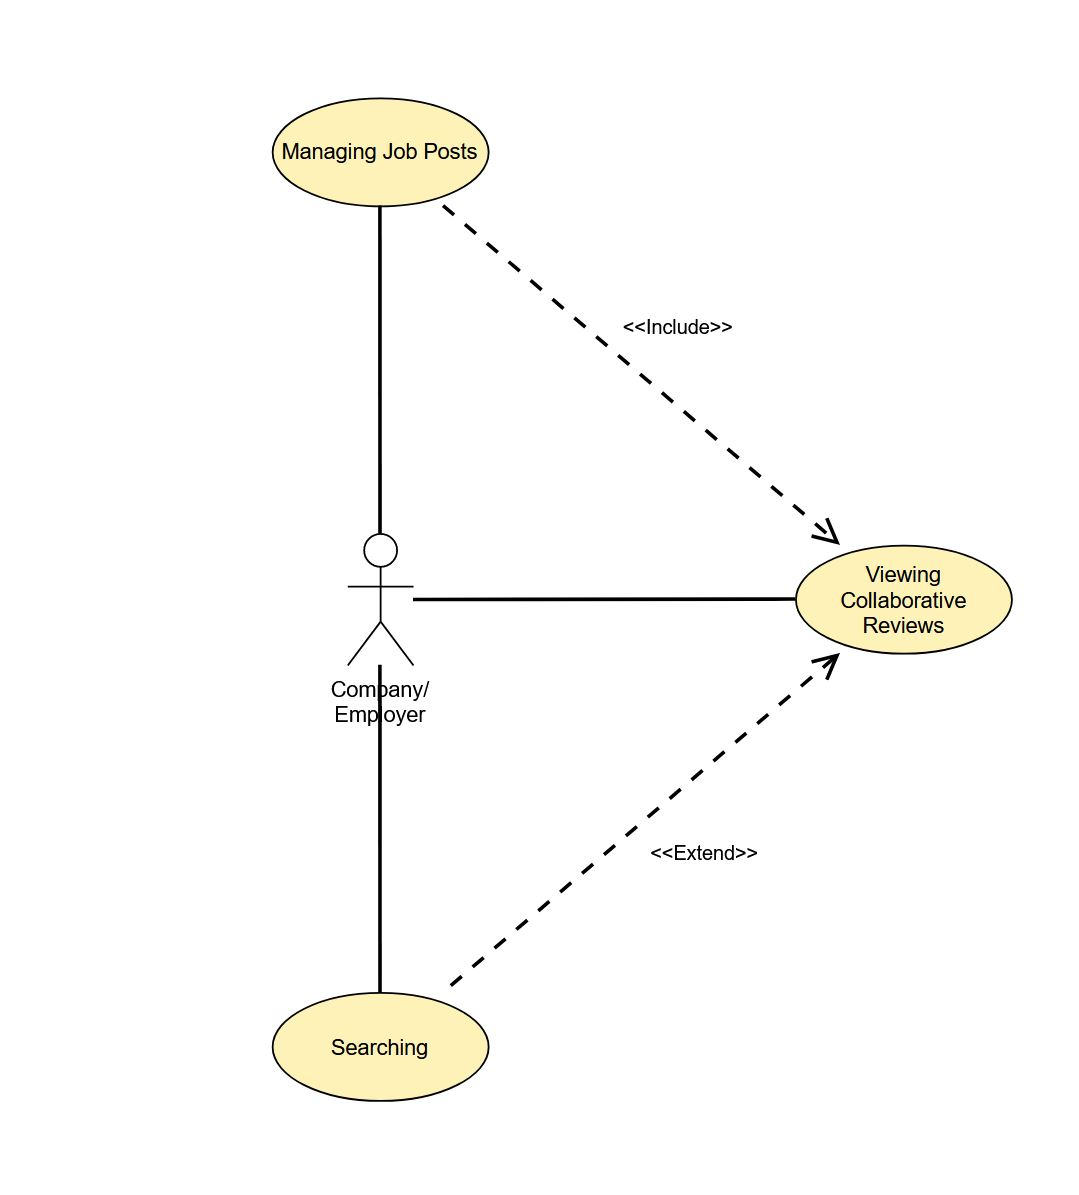actor: (343, 530, 421, 676)
association: (437, 199, 840, 548), (448, 651, 842, 985), (416, 569, 794, 628), (354, 207, 407, 530), (358, 664, 400, 989)
text: (836, 560, 971, 643), (278, 134, 479, 168), (327, 675, 443, 728), (619, 304, 748, 351), (640, 833, 766, 870), (325, 1033, 437, 1071)
use_case: (269, 988, 492, 1107), (269, 96, 491, 210), (794, 542, 1013, 657)
